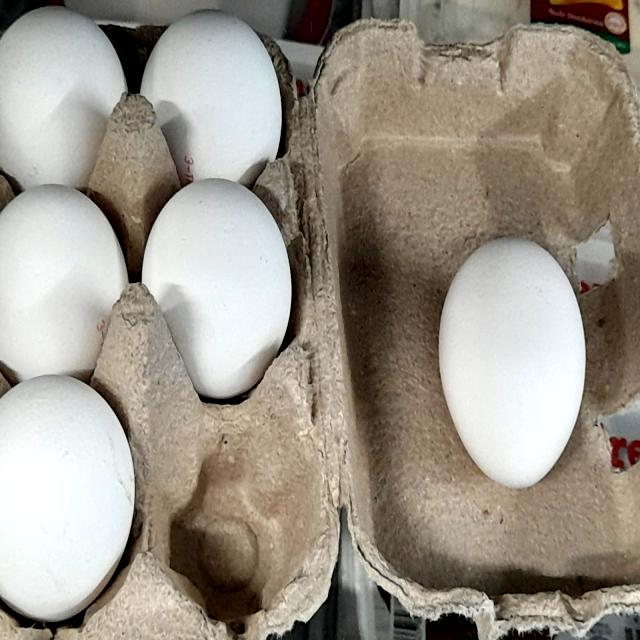egg: (430, 211, 596, 509), (132, 164, 306, 407), (0, 373, 147, 627), (142, 0, 287, 195), (0, 175, 134, 386)
